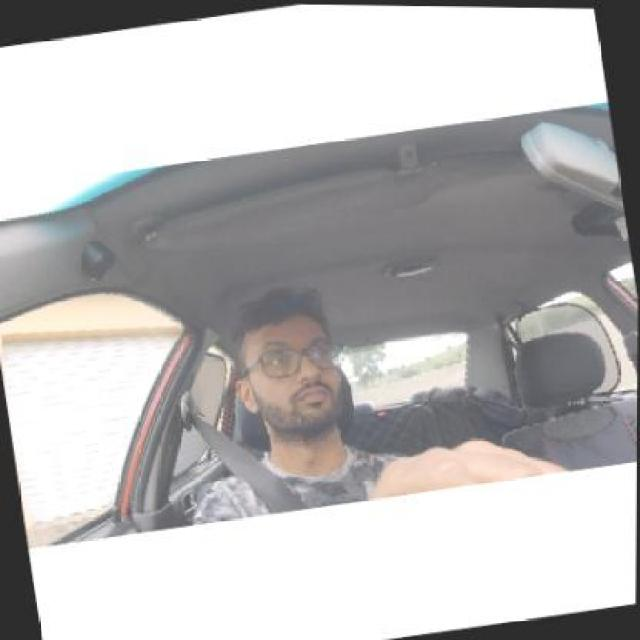person: (216, 289, 364, 453)
